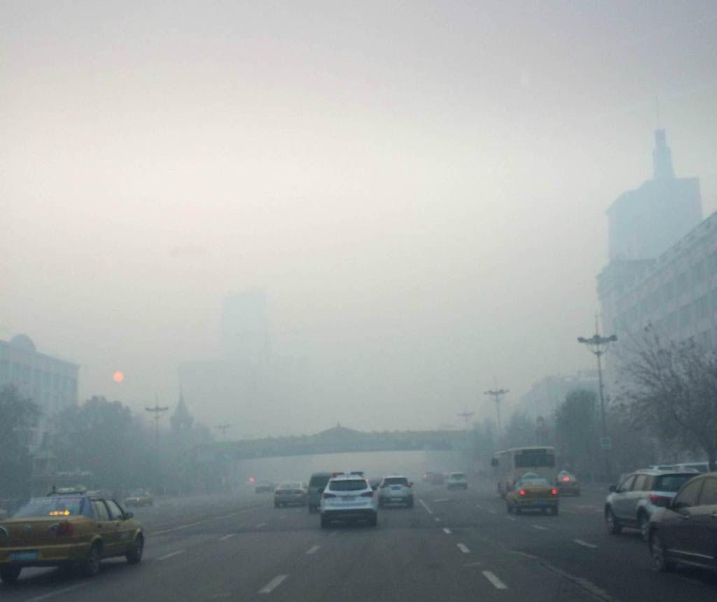bus: (488, 444, 558, 498)
car: (1, 484, 147, 577), (603, 464, 706, 542), (644, 469, 717, 575), (318, 469, 380, 528), (503, 470, 560, 519), (371, 473, 418, 511), (305, 470, 341, 514), (270, 480, 311, 511), (550, 469, 579, 496), (123, 487, 152, 509), (445, 471, 469, 492), (252, 478, 275, 496), (429, 471, 445, 487)
